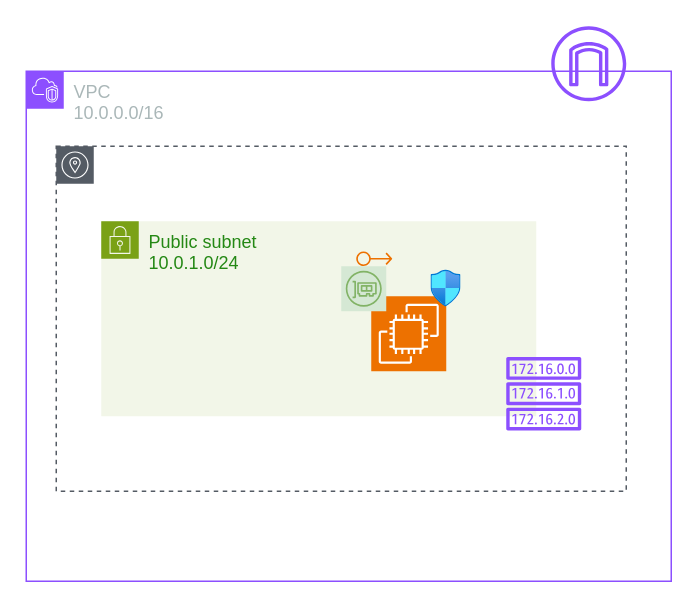
Some shapes in this 698 by 608 pixel diagram are drawn without their labels. The shapes that lost their labels are listed below. From the top down, each one's box as (x1, y1, x2, y2) in pixels, then its label:
(55, 145, 626, 491): eu-west-2a
(370, 295, 446, 371): AWS Linux
